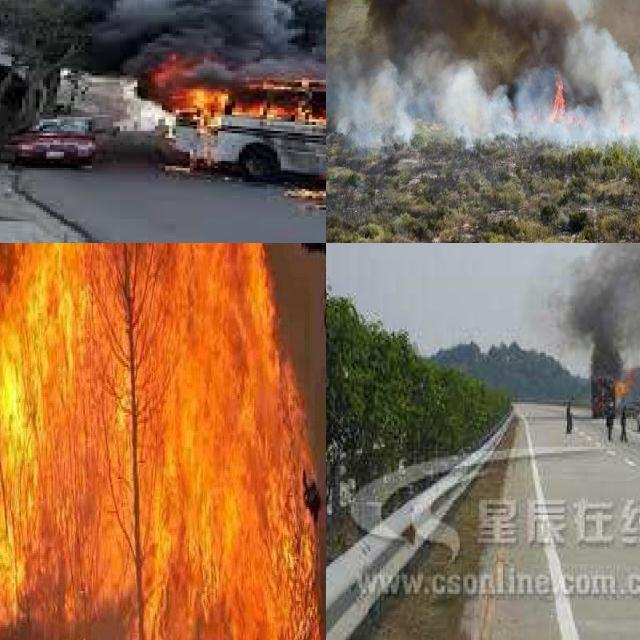fire: (0, 243, 320, 640), (141, 41, 319, 178), (528, 63, 640, 141), (612, 374, 634, 398)
smoke: (326, 0, 640, 139), (0, 0, 326, 82)
